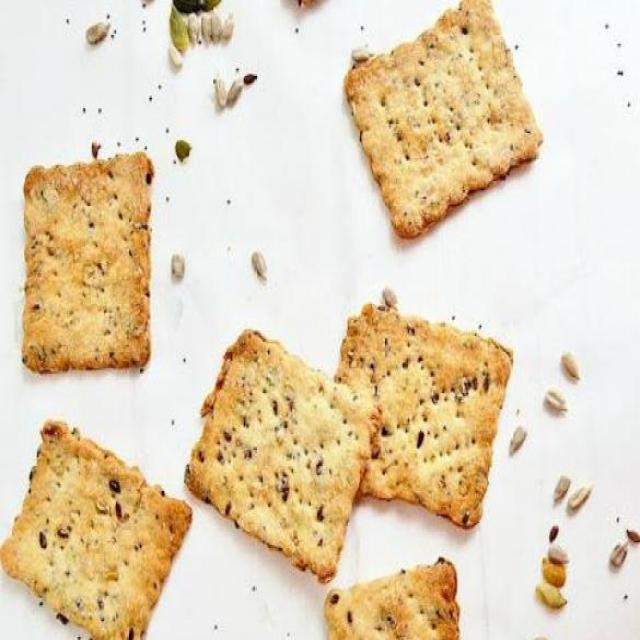Cracker: (348, 1, 562, 227), (193, 332, 361, 580), (3, 419, 185, 633), (15, 162, 164, 386)
